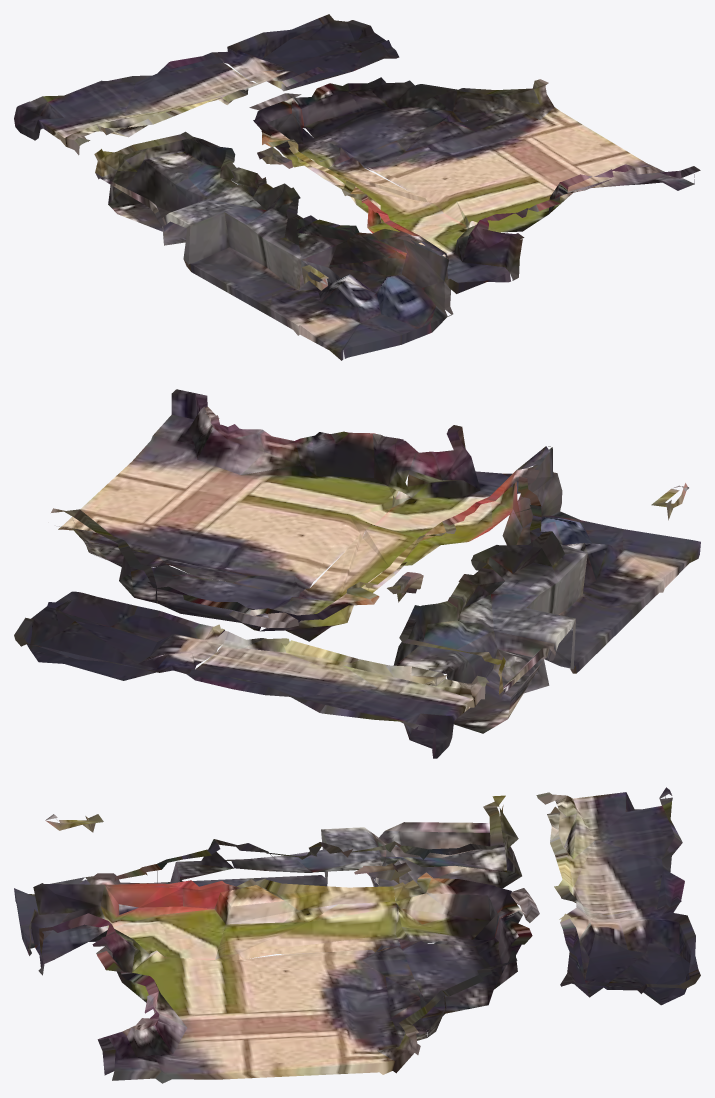
The picture shows the model from 3 angles, top to bottom: view 1: azimuth 30°, elevation 25°; view 2: azimuth 150°, elevation 25°; view 3: azimuth 270°, elevation 25°; orthographic projection. The views are drawn at different scales.
Visible parts, largest first — view 1: Mesh_0; view 2: Mesh_0; view 3: Mesh_0.
Boxes of the visible parts, bbox=[...] form: Mesh_0: bbox=[14, 14, 700, 360]; Mesh_0: bbox=[14, 389, 700, 758]; Mesh_0: bbox=[14, 787, 700, 1083].
Size of the model in its own units: 32.79 by 5.26 by 36.25.
Materials: 1 (1 with a texture image).
